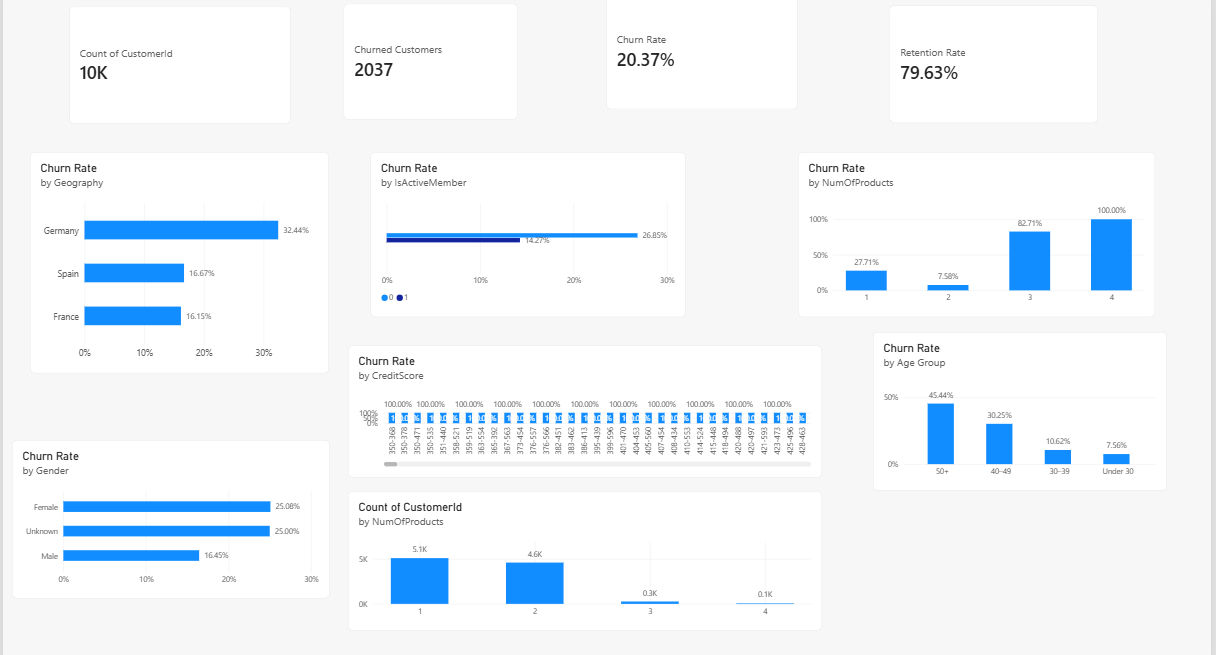

This screenshot's page, from the dashboard's own definition file:
{"tool":"powerbi","page":{"name":"Page 1","canvas":[1920,1080],"ordinal":0},"visuals":[{"type":"cardVisual","fields":{"Data":["Count(Churn_Modelling_Cleaned.CustomerId)"]},"box":[105,21.5,353.1,186.1],"z":0},{"type":"cardVisual","fields":{"Data":["Churn_Modelling_Cleaned.Churned Customers"]},"box":[541.6,16.7,277.5,185],"z":1000},{"type":"cardVisual","fields":{"Data":["Churn_Modelling_Cleaned.Churn Rate"]},"box":[959.1,0,305,185],"z":2000},{"type":"cardVisual","fields":{"Data":["Churn_Modelling_Cleaned.Retention Rate"]},"box":[1410.1,19.1,331.6,188.5],"z":3000},{"type":"clusteredBarChart","fields":{"Category":["Churn_Modelling_Cleaned.Geography"],"Y":["Churn_Modelling_Cleaned.Churn Rate"]},"box":[43.3,253.3,475,351.7],"z":4000},{"type":"clusteredBarChart","fields":{"Category":["Churn_Modelling_Cleaned.Gender"],"Y":["Churn_Modelling_Cleaned.Churn Rate"]},"box":[13.3,711.7,505,251.7],"z":5000},{"type":"clusteredBarChart","fields":{"Series":["Churn_Modelling_Cleaned.IsActiveMember"],"Y":["Churn_Modelling_Cleaned.Churn Rate"]},"box":[584.5,252.9,501,262.5],"z":6000},{"type":"clusteredColumnChart","fields":{"Category":["Churn_Modelling_Cleaned.Age Group"],"Y":["Churn_Modelling_Cleaned.Churn Rate"]},"box":[1385,540,467.5,252.5],"z":7000},{"type":"columnChart","fields":{"Category":["Churn_Modelling_Cleaned.NumOfProducts"],"Y":["Churn_Modelling_Cleaned.Churn Rate"]},"box":[1264.5,252.9,567.8,262.5],"z":8000},{"type":"clusteredColumnChart","fields":{"Category":["Churn_Modelling_Cleaned.NumOfProducts"],"Y":["CountNonNull(Churn_Modelling_Cleaned.CustomerId)"]},"box":[548.8,792.1,753.9,221.9],"z":9000},{"type":"clusteredColumnChart","fields":{"Category":["Churn_Modelling_Cleaned.CreditScore"],"Y":["Churn_Modelling_Cleaned.Churn Rate"]},"box":[548.8,560.7,753.9,210],"z":10000}]}

Visuals, with their boxes on the page's 1920x1080 design canvas (x1, y1, x2, y2). These are canvas units, not pixel positions in the 1216x655 screenshot, which may show the page scaled, cropped or inside an application window:
cardVisual - Count(Churn_Modelling_Cleaned.CustomerId): l=105, t=22, r=458, b=208
cardVisual - Churn_Modelling_Cleaned.Churned Customers: l=542, t=17, r=819, b=202
cardVisual - Churn_Modelling_Cleaned.Churn Rate: l=959, t=0, r=1264, b=185
cardVisual - Churn_Modelling_Cleaned.Retention Rate: l=1410, t=19, r=1742, b=208
clusteredBarChart - Churn_Modelling_Cleaned.Geography x Churn_Modelling_Cleaned.Churn Rate: l=43, t=253, r=518, b=605
clusteredBarChart - Churn_Modelling_Cleaned.Gender x Churn_Modelling_Cleaned.Churn Rate: l=13, t=712, r=518, b=963
clusteredBarChart - Churn_Modelling_Cleaned.IsActiveMember x Churn_Modelling_Cleaned.Churn Rate: l=584, t=253, r=1086, b=515
clusteredColumnChart - Churn_Modelling_Cleaned.Age Group x Churn_Modelling_Cleaned.Churn Rate: l=1385, t=540, r=1852, b=792
columnChart - Churn_Modelling_Cleaned.NumOfProducts x Churn_Modelling_Cleaned.Churn Rate: l=1264, t=253, r=1832, b=515
clusteredColumnChart - Churn_Modelling_Cleaned.NumOfProducts x CountNonNull(Churn_Modelling_Cleaned.CustomerId): l=549, t=792, r=1303, b=1014
clusteredColumnChart - Churn_Modelling_Cleaned.CreditScore x Churn_Modelling_Cleaned.Churn Rate: l=549, t=561, r=1303, b=771
